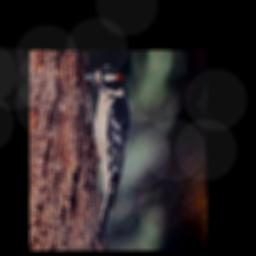Woodpecker: (81, 60, 133, 240)
